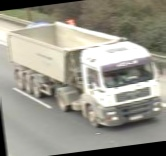truck: (8, 10, 165, 140)
